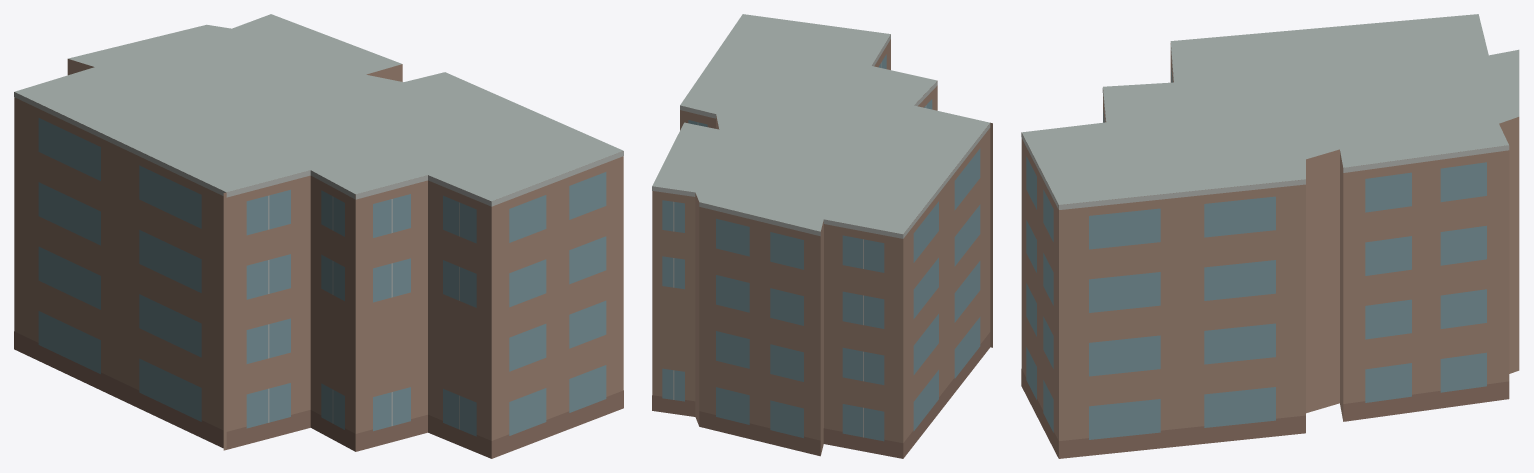
Rendered from survey-upis-32494395.glb.
3 renders of one model, left to right at view 1: azimuth 30°, elevation 25°; view 2: azimuth 150°, elevation 25°; view 3: azimuth 270°, elevation 25°, orthographic. The views are drawn at different scales.
Visible parts, largest first — view 1: survey-upis-32494395.tmp; view 2: survey-upis-32494395.tmp; view 3: survey-upis-32494395.tmp.
Boxes of the visible parts, x1,y1,x2,y2 form: survey-upis-32494395.tmp: (14,14,623,458); survey-upis-32494395.tmp: (652,14,992,458); survey-upis-32494395.tmp: (1021,14,1519,458).
Bounding box in the file's own units: 19.2 × 11.9 × 21.15.
